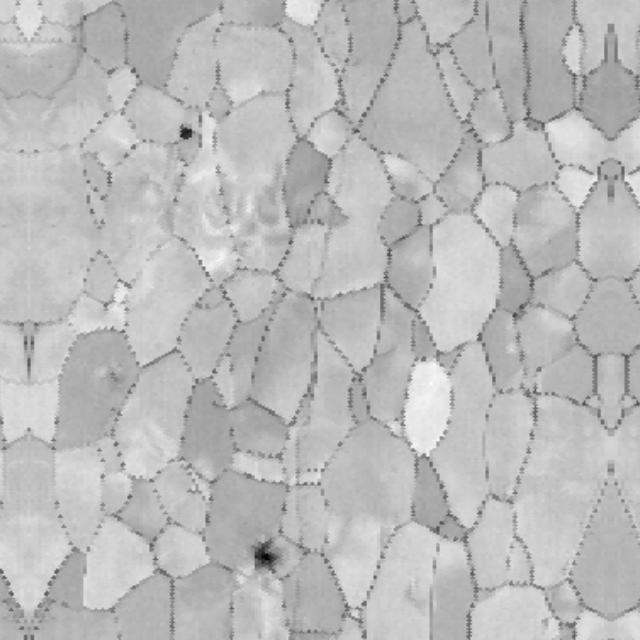good_void: (233, 537, 296, 574), (166, 117, 216, 155), (105, 359, 130, 392), (226, 422, 236, 440), (225, 361, 238, 373), (541, 615, 550, 628)
